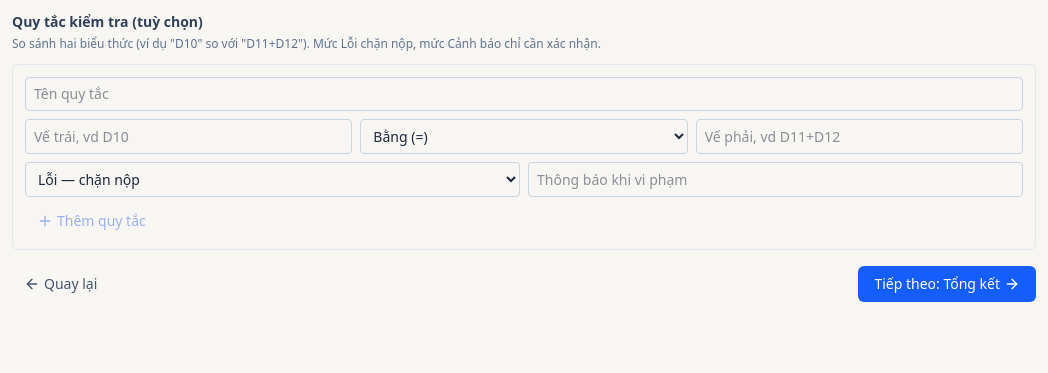
it: ReportRulesStep (S36, PR9 slice 1) › removes a rule from the list
The image size is (1048, 373).
Type "R1" into the field with test id "input-rule-name".
click(524, 94); type("R1")  # box [25, 77, 1023, 111]
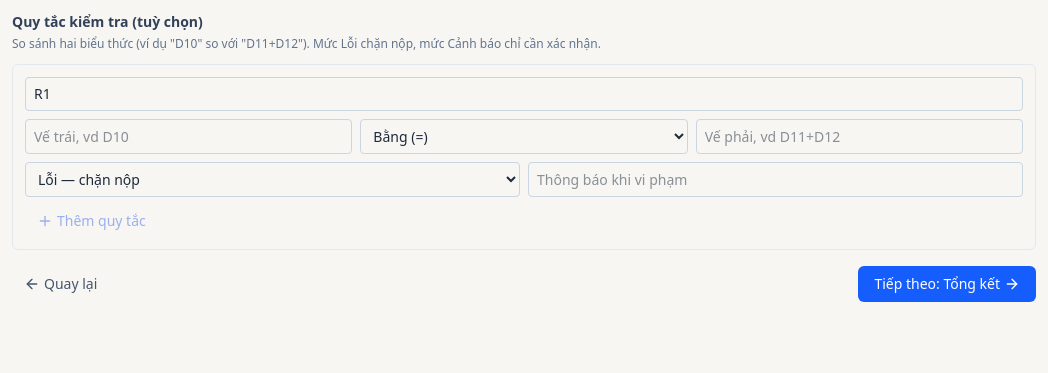
Type "D10" into the field with test id "input-rule-left".
click(189, 136); type("D10")  # box [25, 119, 352, 154]
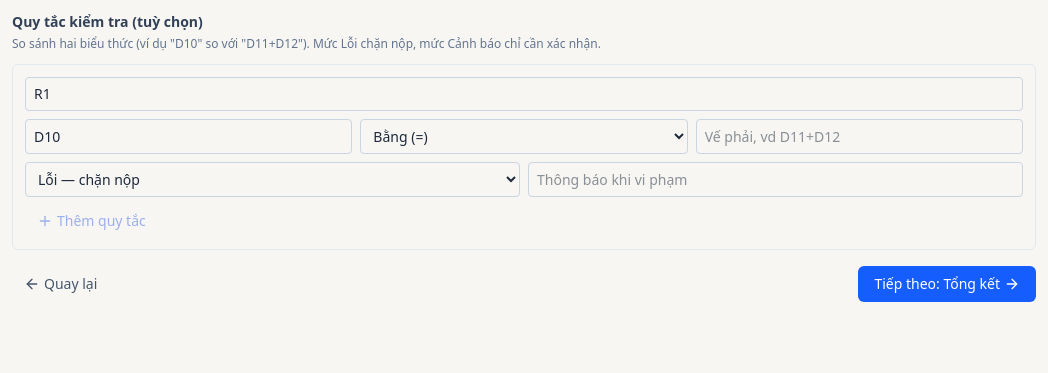
Type "D11" into the field with test id "input-rule-right".
click(859, 136); type("D11")  # box [696, 119, 1023, 154]
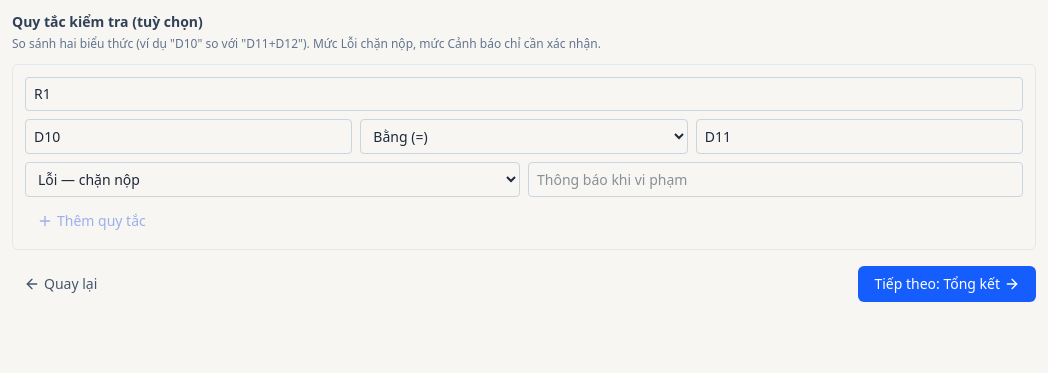
Type "m" into the field with test id "input-rule-message".
click(776, 180); type("m")  # box [528, 162, 1023, 197]
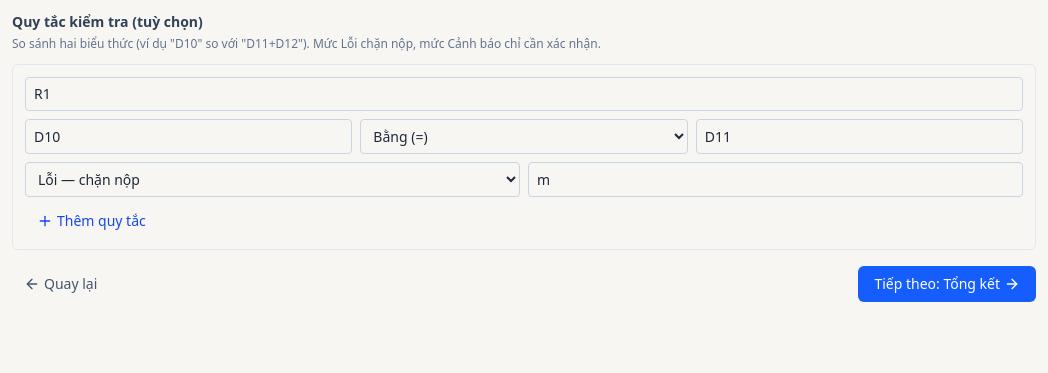
Click the button with test id "btn-add-rule".
click(91, 221)  # box [25, 205, 158, 237]
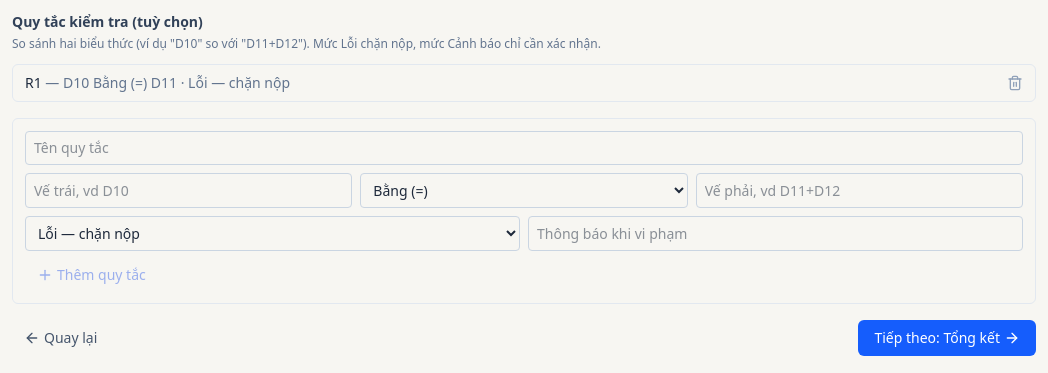
Expected: the list item with test id "rule-row-0" is shown, [25, 73, 1023, 92]
Click the button with test id "btn-remove-rule-0".
click(1015, 83)  # box [1007, 75, 1023, 91]
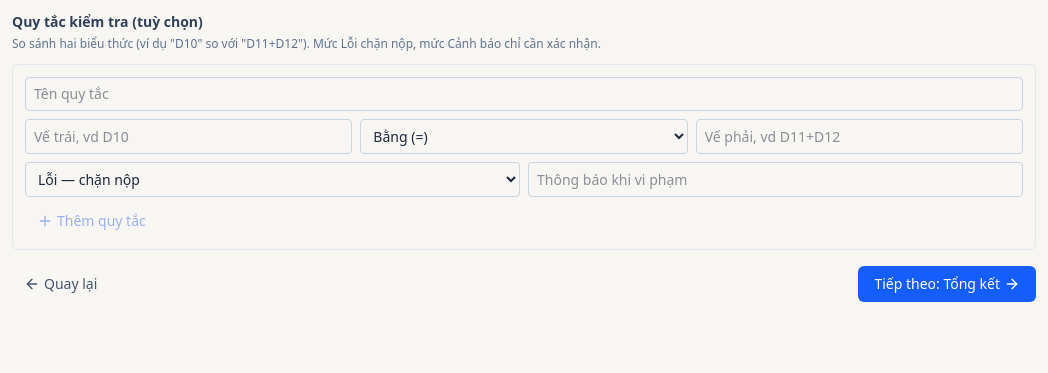
Expected: the list item with test id "rule-row-0" is gone
